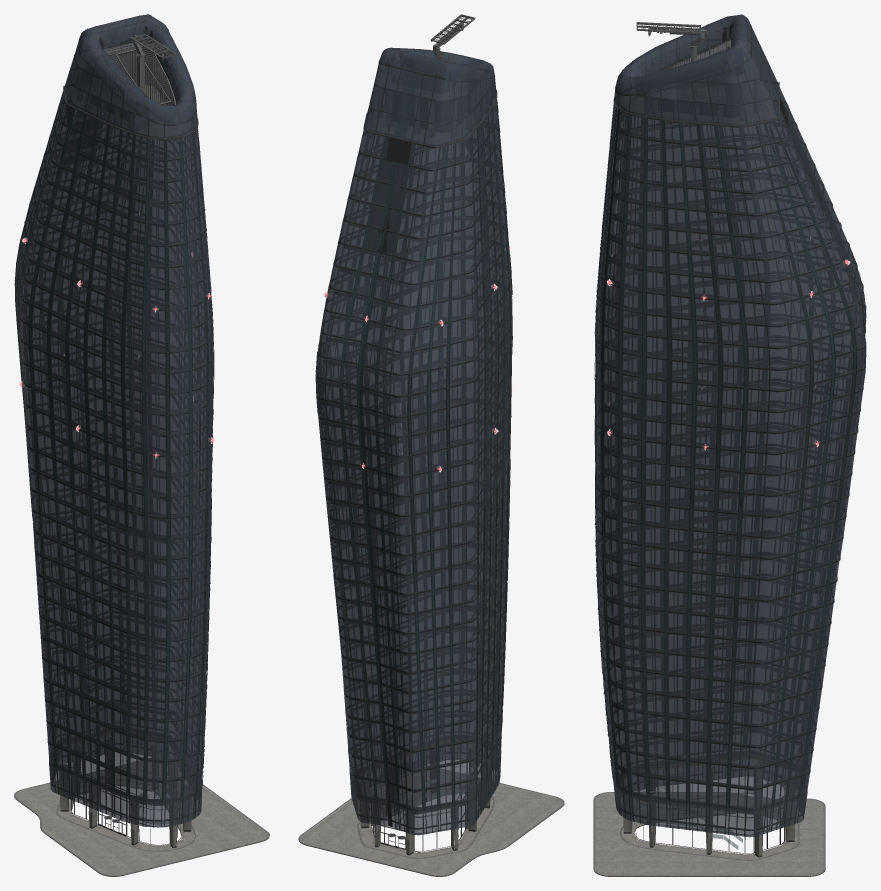
The model's file is skyscraper.glb.
The picture shows the model from 3 angles, left to right: view 1: azimuth 30°, elevation 25°; view 2: azimuth 150°, elevation 25°; view 3: azimuth 270°, elevation 25°; orthographic projection. The views are drawn at different scales.
Visible parts, largest first — view 1: Building_Elements_Trim_Building_Elements_Trim_0; view 2: Building_Elements_Trim_Building_Elements_Trim_0; view 3: Building_Elements_Trim_Building_Elements_Trim_0.
Boxes of the visible parts, x1,y1,x2,y2 form: Building_Elements_Trim_Building_Elements_Trim_0: (14, 14, 269, 876); Building_Elements_Trim_Building_Elements_Trim_0: (298, 14, 564, 876); Building_Elements_Trim_Building_Elements_Trim_0: (593, 14, 866, 876).
Bounding box in the file's own units: 37.24 × 166 × 50.92.
12 materials, 11 textured.
